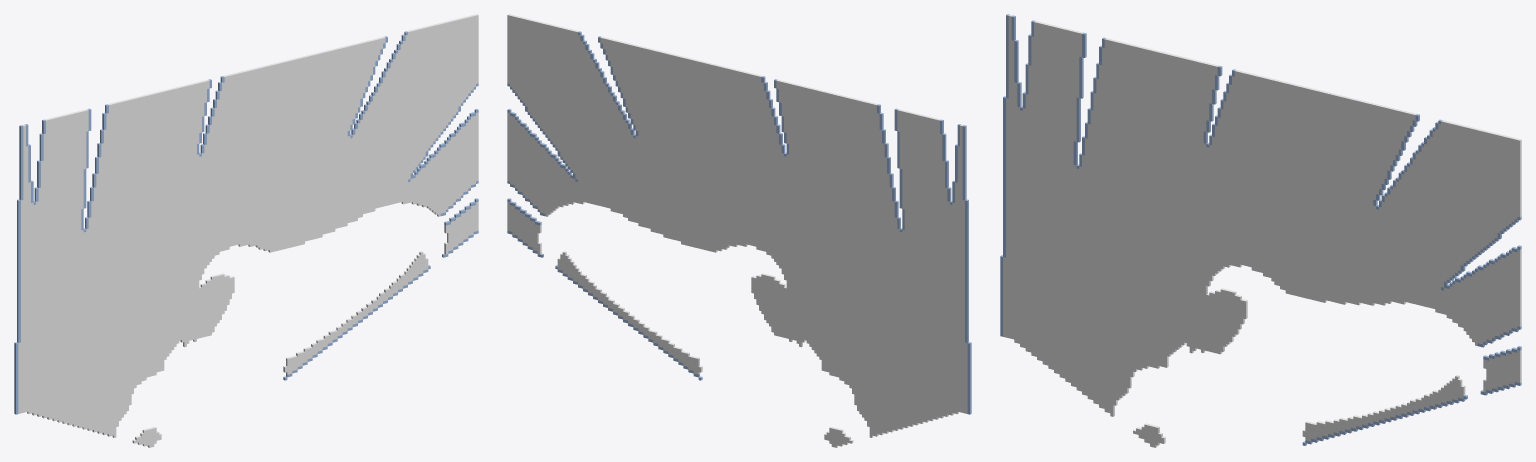
The model's file is Fight_201_2_08_fx.obj.
3 renders of one model, left to right at view 1: azimuth 30°, elevation 25°; view 2: azimuth 150°, elevation 25°; view 3: azimuth 330°, elevation 25°, orthographic. The views are drawn at different scales.
Size of the model in its own units: 18.4 by 13.4 by 0.1.
1 material, 1 textured.
